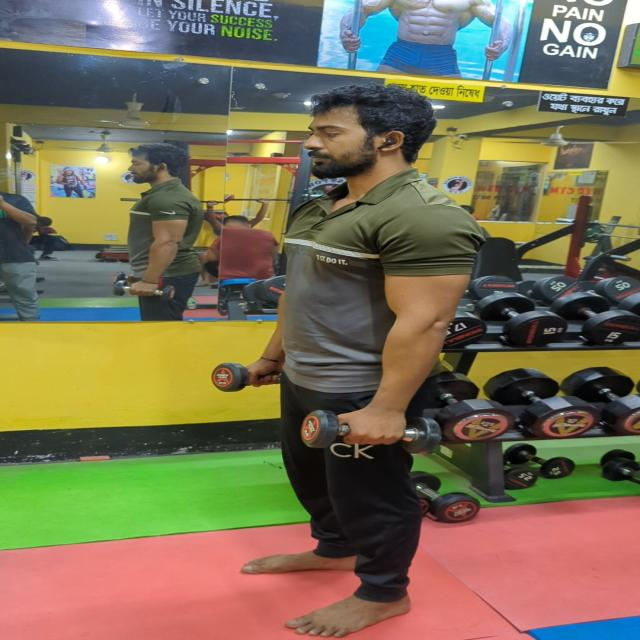Normal_DumbbellBicepCurls: (194, 100, 524, 634)
